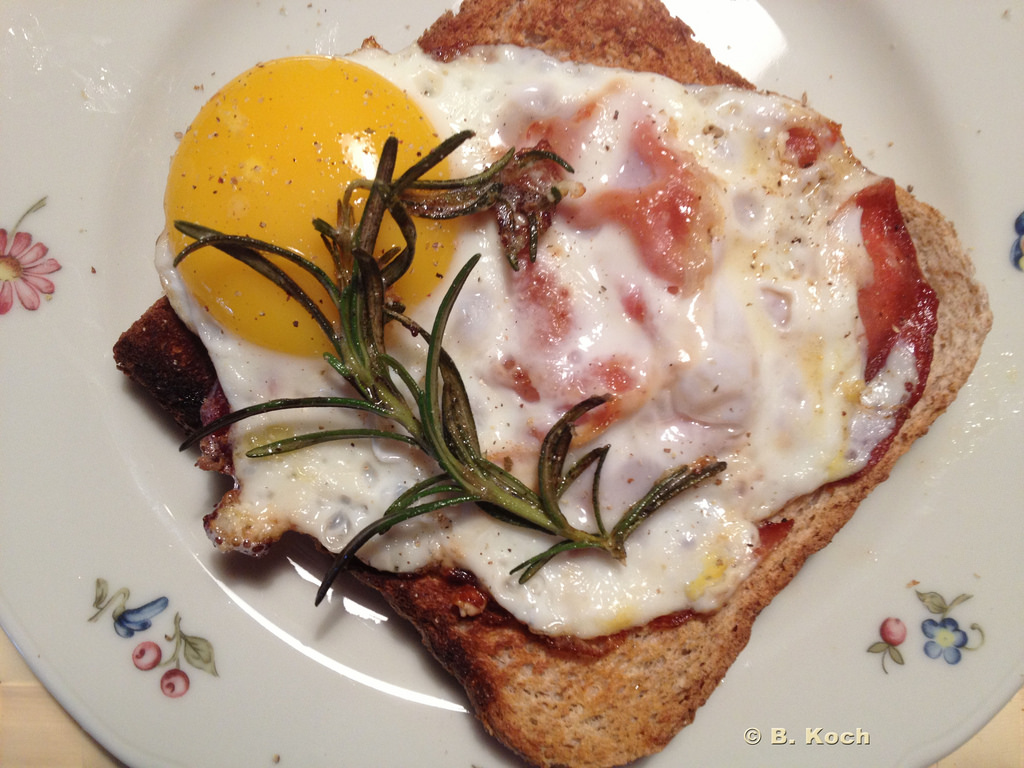fried egg: (188, 52, 715, 610)
slice of bread: (124, 4, 976, 768)
